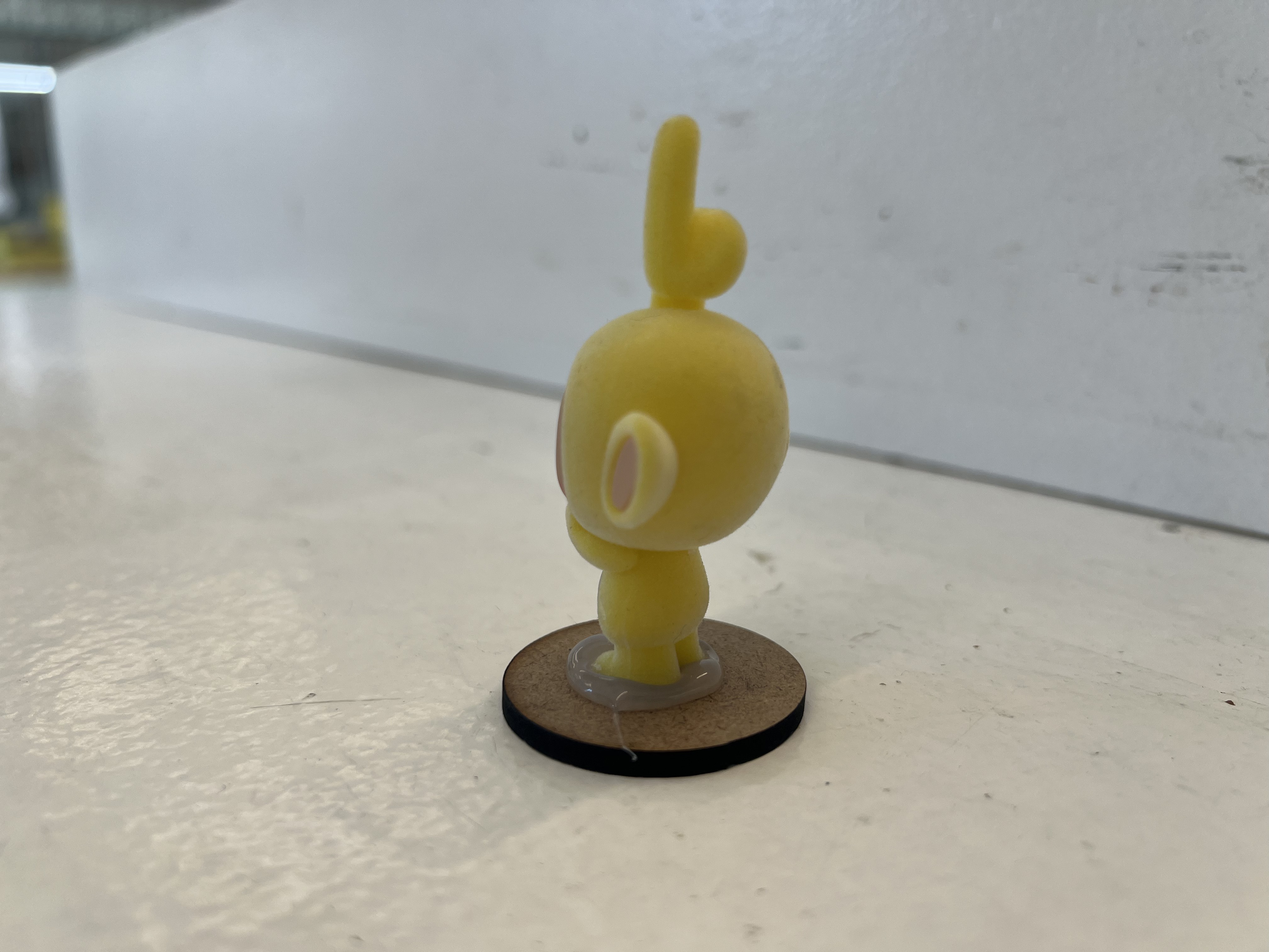teletubby: (556, 116, 789, 685)
